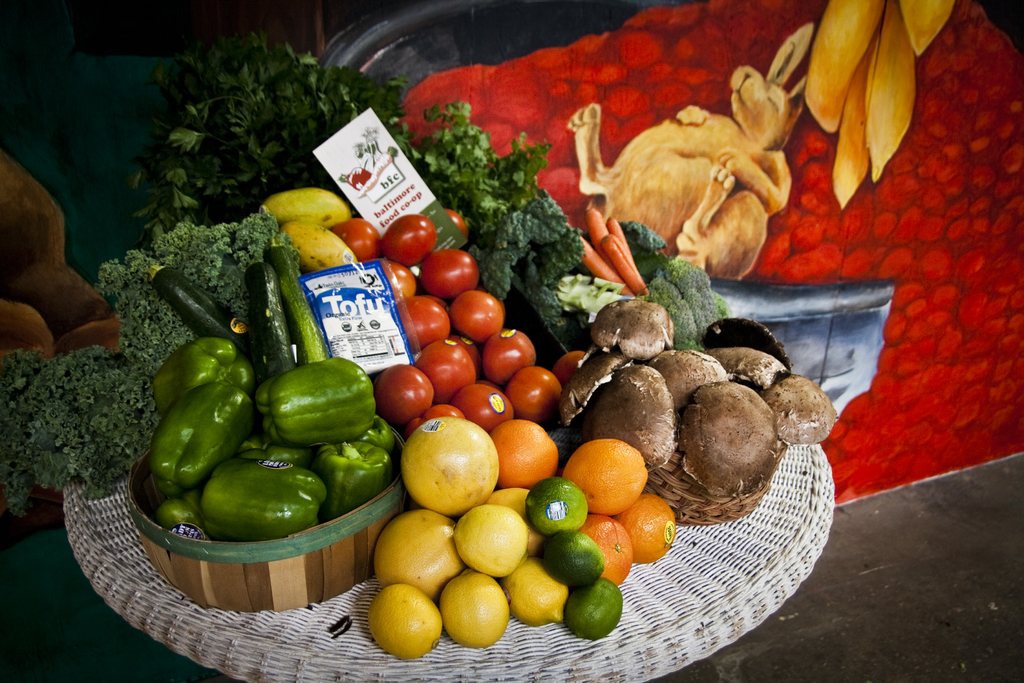Tomato: (325, 217, 582, 435)
